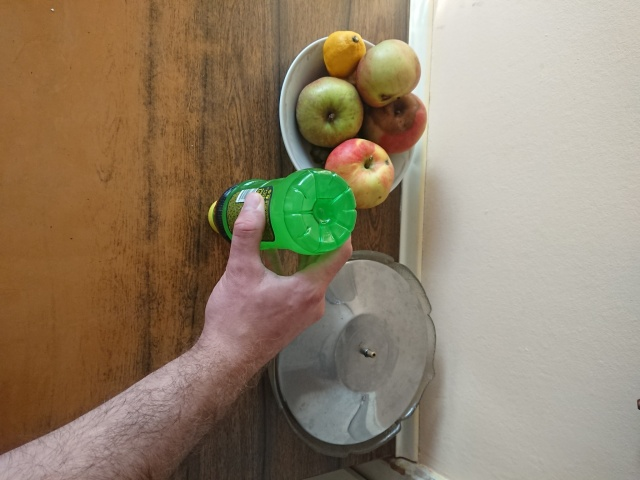Vindi Iso Sport Lemon-Grapefruit 500mL: (204, 165, 360, 259)
